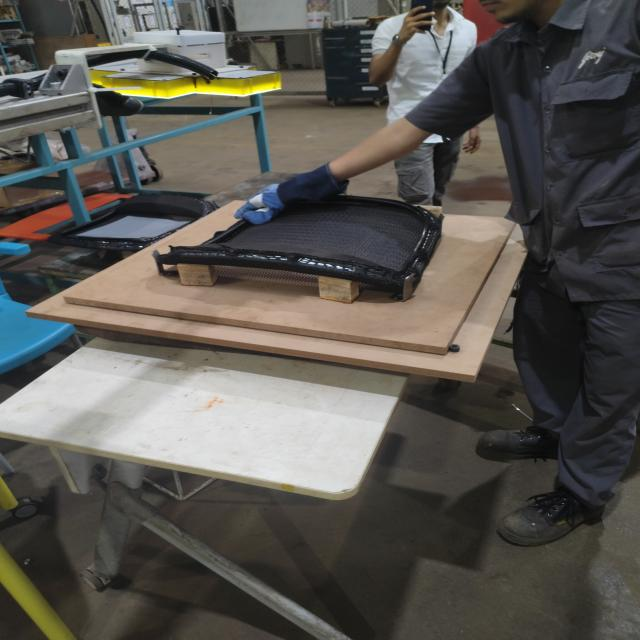Gloves-Detection: (234, 170, 343, 216)
